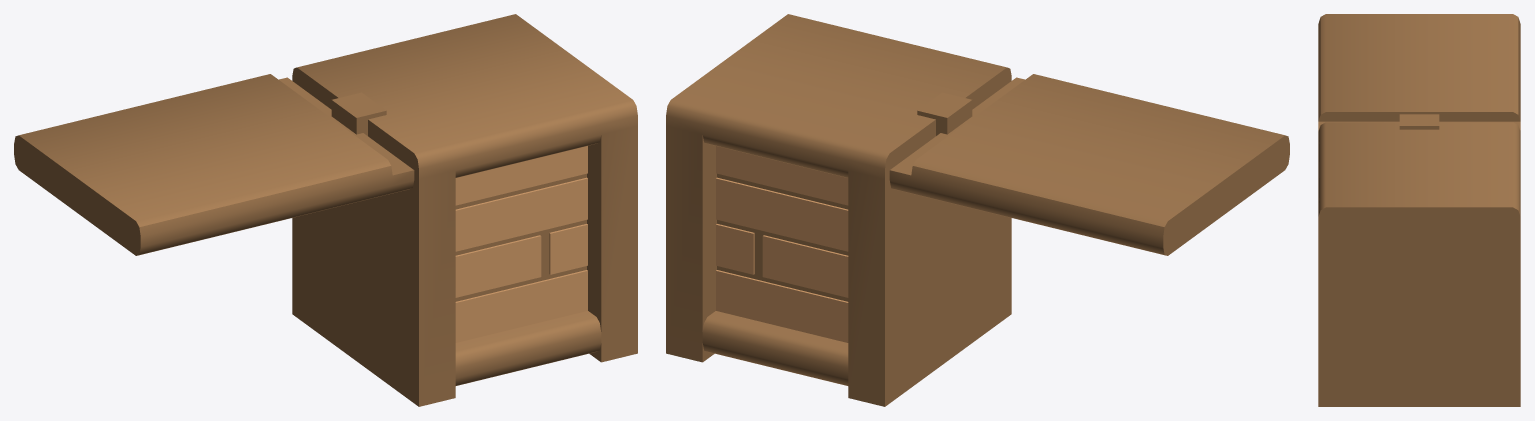
Rendered from Environment_Counter_Door.fbx.
3 views of the same model, side by side, from view 1: azimuth 30°, elevation 25°; view 2: azimuth 150°, elevation 25°; view 3: azimuth 270°, elevation 25° (orthographic). The views are drawn at different scales.
Parts seen in each view (by area): view 1: Environment_Counter_Door; view 2: Environment_Counter_Door; view 3: Environment_Counter_Door.
Part boxes in pixels (left/top/right/bottom): Environment_Counter_Door: left=14, top=14, right=637, bottom=406; Environment_Counter_Door: left=666, top=14, right=1289, bottom=406; Environment_Counter_Door: left=1318, top=14, right=1520, bottom=406.
Size of the model in its own units: 400 by 196 by 177.
